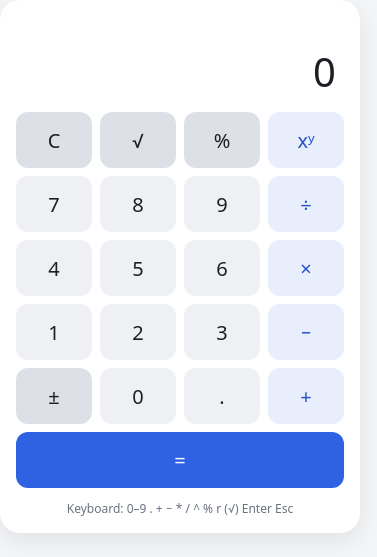
Test case: Calculator › shows the API error message
The image size is (377, 557).
Step 1. Click the button "5" → coordinates (138, 268), box [100, 240, 176, 296]
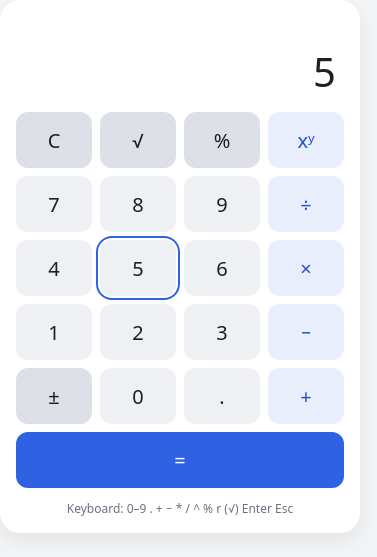
Step 2. Click the button named "divide" → coordinates (306, 204), box [268, 176, 344, 232]
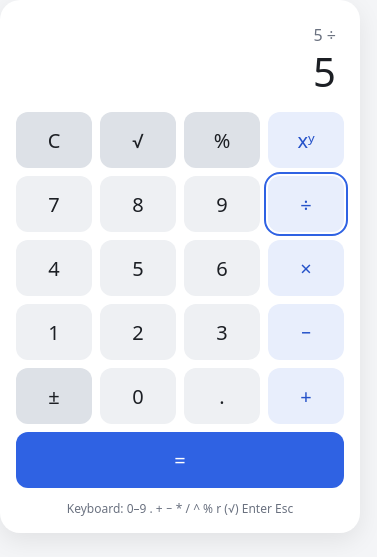
Step 3. Click the button "0" → coordinates (138, 396), box [100, 368, 176, 424]
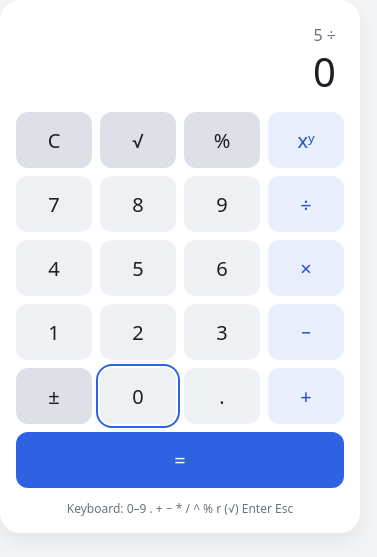
Step 4. Click the button named "equals" → coordinates (180, 460), box [16, 432, 344, 488]
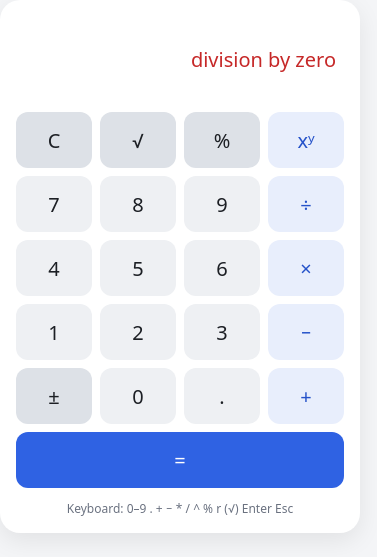
expect the text "division by zero" is shown: met, box [191, 46, 336, 73]
